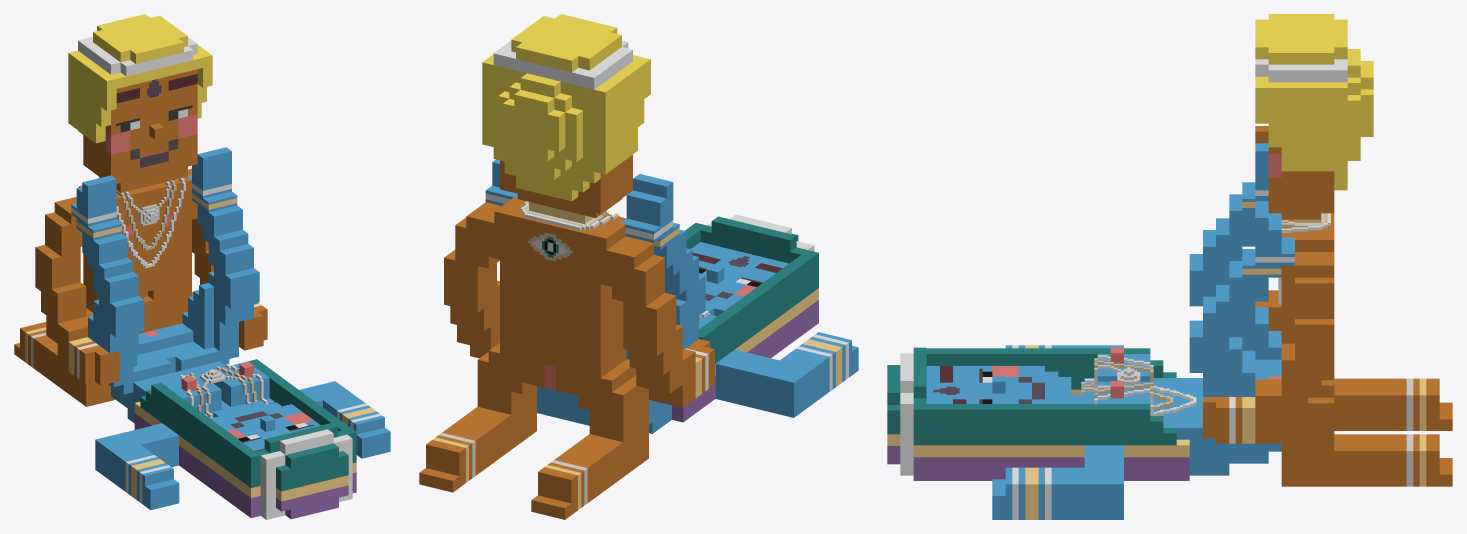
The model's file is kama79.glb.
The picture shows the model from 3 angles, left to right: view 1: azimuth 30°, elevation 25°; view 2: azimuth 150°, elevation 25°; view 3: azimuth 270°, elevation 25°; orthographic projection. The views are drawn at different scales.
Parts seen in each view (by area): view 1: Node; view 2: Node; view 3: Node.
Part boxes in pixels (<box>): Node: <box>14,14,390,519</box>; Node: <box>419,14,858,519</box>; Node: <box>887,14,1452,519</box>.
Size of the model in its own units: 10 by 14 by 17.2.
Materials: 1 (1 with a texture image).
